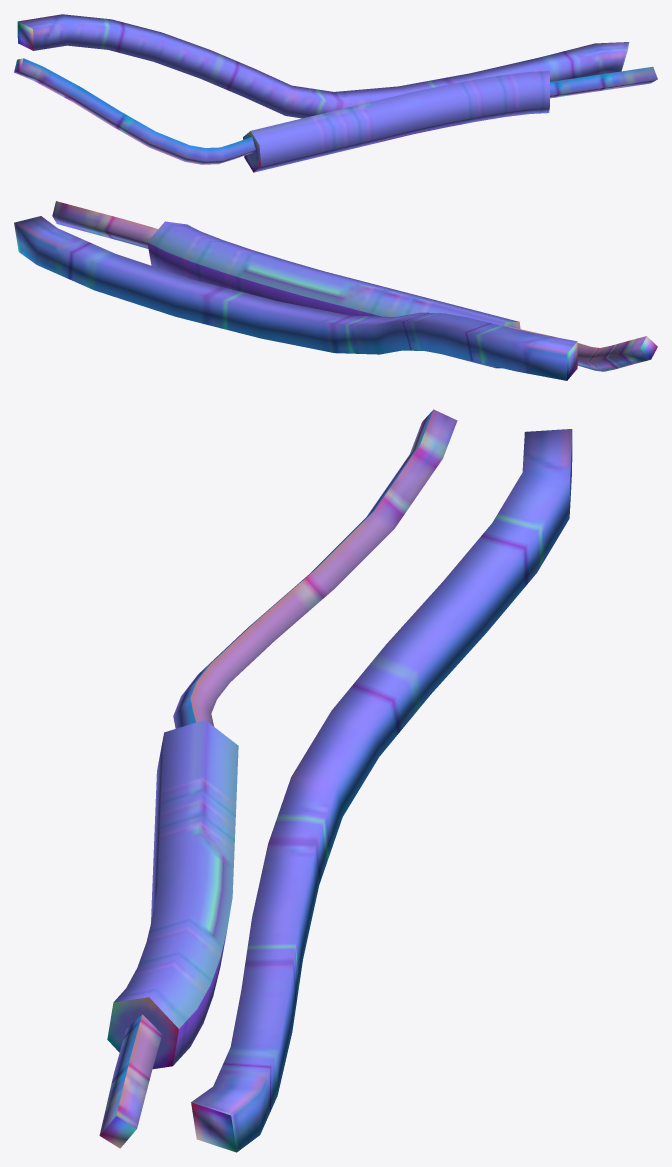
The model's file is debris_cables_03.glb.
3 renders of one model, top to bottom at view 1: azimuth 30°, elevation 25°; view 2: azimuth 150°, elevation 25°; view 3: azimuth 270°, elevation 25°, orthographic. The views are drawn at different scales.
Visible parts, largest first — view 1: ship_debris_05_part_23, ship_debris_05_part_24, ship_debris_05_part_22; view 2: ship_debris_05_part_23, ship_debris_05_part_24, ship_debris_05_part_22; view 3: ship_debris_05_part_23, ship_debris_05_part_24, ship_debris_05_part_22.
Part boxes in pixels (x1=…): ship_debris_05_part_23: x1=17, y1=14, x2=629, y2=118; ship_debris_05_part_24: x1=243, y1=71, x2=550, y2=172; ship_debris_05_part_22: x1=14, y1=58, x2=657, y2=164; ship_debris_05_part_23: x1=14, y1=216, x2=577, y2=380; ship_debris_05_part_24: x1=147, y1=221, x2=520, y2=368; ship_debris_05_part_22: x1=52, y1=201, x2=657, y2=371; ship_debris_05_part_23: x1=191, y1=429, x2=572, y2=1152; ship_debris_05_part_24: x1=107, y1=720, x2=238, y2=1069; ship_debris_05_part_22: x1=99, y1=409, x2=457, y2=1148.
Size of the model in its own units: 3.5 by 0.6949 by 1.28.
Materials: 1 (1 with a texture image).
